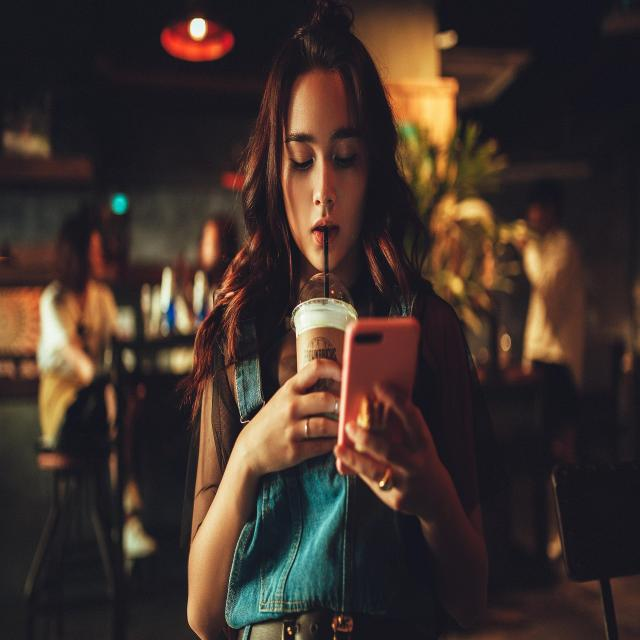Mobile: (339, 295, 422, 529)
